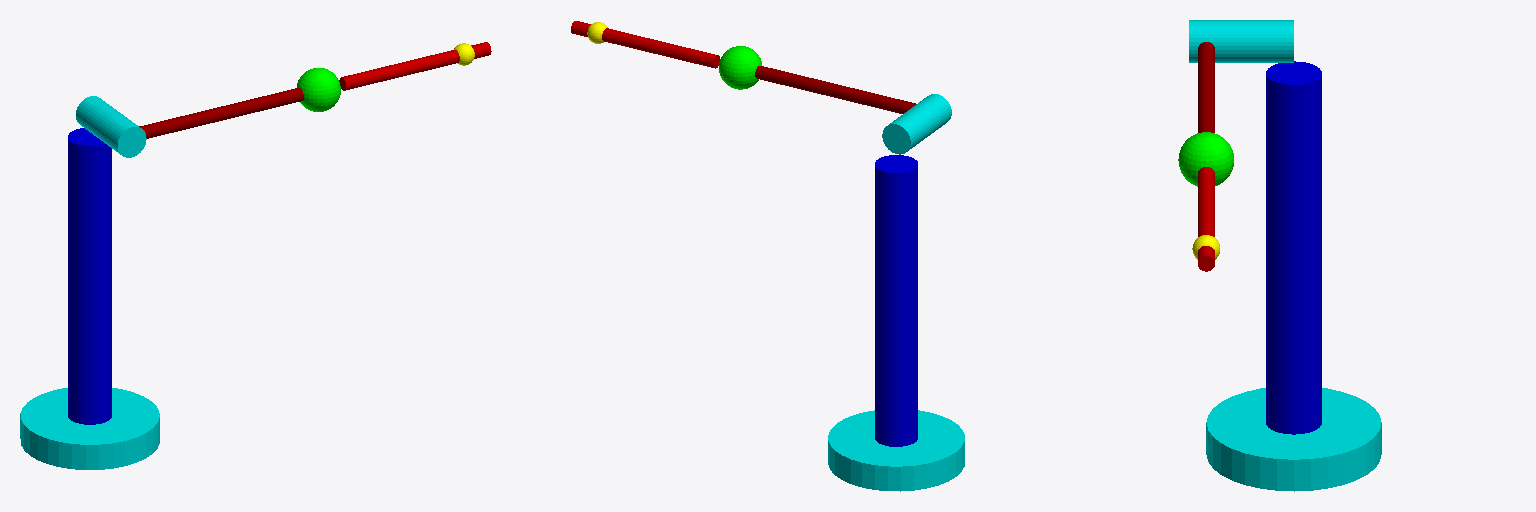
robot.urdf — pend_robot:
<?xml version="1.0"?>
<!--
  Motorised pendulum, tidied version.

  Frame conventions (all link frames are aligned with the world frame when q = 0):
    * the post is vertical, along +z;
    * the motor_joint (shoulder) is at (0, -0.25, 1.3): above the post and 0.25 m to its side,
      so the arm swings in the plane y = -0.25, beside the post and never through it;
    * the joint axis is -y, so a positive angle lifts the arm UP in the x-z plane;
    * at q = 0 the arm points along +x (horizontal).
  The only rpy values in this file are inside <visual>/<inertial> tags. They rotate the
  cylinder shapes (which PyBullet builds along z) so that they lie along x or y.
  They do not change any frame.
-->
<robot name="pend_robot">

  <link name="base_link">
    <visual>
      <origin xyz="0 0 0.05" rpy="0 0 0"/>
      <geometry><cylinder radius="0.25" length="0.1"/></geometry>
      <material name="cyan"><color rgba="0 0.9 0.9 1.0"/></material>
    </visual>
    <inertial>
      <origin xyz="0 0 0.05" rpy="0 0 0"/>
      <mass value="100"/>
      <inertia ixx="10" ixy="0" ixz="0" iyy="10" iyz="0" izz="10"/>
    </inertial>
  </link>

  <link name="body_link">
    <visual>
      <origin xyz="0 0 0.6" rpy="0 0 0"/>
      <geometry><cylinder radius="0.08" length="1.2"/></geometry>
      <material name="blue"><color rgba="0 0 0.9 1.0"/></material>
    </visual>
    <inertial>
      <origin xyz="0 0 0.6" rpy="0 0 0"/>
      <mass value="5"/>
      <inertia ixx="0.6" ixy="0" ixz="0" iyy="0.6" iyz="0" izz="0.05"/>
    </inertial>
  </link>

  <!-- Motor housing: a cylinder along the joint axis (y), from the post to the arm. -->
  <link name="motor_link">
    <visual>
      <origin xyz="0 0.1 0" rpy="1.5707963 0 0"/>
      <geometry><cylinder radius="0.06" length="0.3"/></geometry>
      <material name="cyan"><color rgba="0 0.9 0.9 1.0"/></material>
    </visual>
    <inertial>
      <origin xyz="0 0 0" rpy="0 0 0"/>
      <mass value="1"/>
      <inertia ixx="0.01" ixy="0" ixz="0" iyy="0.01" iyz="0" izz="0.01"/>
    </inertial>
  </link>

  <!-- Arm: 0.8 m long, along +x of its own frame. -->
  <link name="arm_link">
    <visual>
      <origin xyz="0.4 0 0" rpy="0 1.5707963 0"/>
      <geometry><cylinder radius="0.025" length="0.8"/></geometry>
      <material name="red"><color rgba="0.6 0 0 1.0"/></material>
    </visual>
    <inertial>
      <origin xyz="0.4 0 0" rpy="0 0 0"/>
      <mass value="0.5"/>
      <inertia ixx="0.0002" ixy="0" ixz="0" iyy="0.03" iyz="0" izz="0.03"/>
    </inertial>
  </link>

 <!-- Arm: 0.8 m long, along +x of its own frame. -->
  <link name="arm2_link">
    <visual>
      <origin xyz="0.4 0 0" rpy="0 1.5707963 0"/>
      <geometry><cylinder radius="0.025" length="0.6"/></geometry>
      <material name="red"><color rgba="0.8 0 0 1.0"/></material>
    </visual>
    <inertial>
      <origin xyz="0.3 0 0" rpy="0 0 0"/>
      <mass value="0.3"/>
      <inertia ixx="0.0002" ixy="0" ixz="0" iyy="0.03" iyz="0" izz="0.03"/>
    </inertial>
  </link>

  <!-- Ball at the end of the arm. Its frame origin is exactly the arm tip. -->
  <link name="ball_link">
    <visual>
      <origin xyz="0 0 0" rpy="0 0 0"/>
      <geometry><sphere radius="0.08"/></geometry>
      <material name="green"><color rgba="0 1 0 1"/></material>
    </visual>
    <inertial>
      <origin xyz="0 0 0" rpy="0 0 0"/>
      <mass value="2"/>
      <inertia ixx="0.005" ixy="0" ixz="0" iyy="0.005" iyz="0" izz="0.005"/>
    </inertial>
  </link>

    <link name="tip_link">
      <visual>
        <origin xyz="0 0 0" rpy="0 0 0"/>
        <geometry><sphere radius="0.04"/></geometry>
        <material name="yellow"><color rgba="1 1 0 1"/></material>
      </visual>
      <inertial>
        <origin xyz="0 0 0" rpy="0 0 0"/>
        <mass value="0.1"/>
        <inertia ixx="0.0001" ixy="0" ixz="0" iyy="0.0001" iyz="0" izz="0.0001"/>
      </inertial>
    </link>

  <joint name="first_joint" type="fixed">
    <parent link="base_link"/>
    <child link="body_link"/>
    <origin xyz="0 0 0" rpy="0 0 0"/>
  </joint>

  <!-- The only moving joint: the shoulder. -->
  <joint name="motor_joint" type="continuous">
    <parent link="body_link"/>
    <child link="motor_link"/>
    <origin xyz="0 -0.25 1.3" rpy="0 0 0"/>
    <axis xyz="0 -1 0"/>
    <dynamics damping="0.05" friction="0.0"/>
  </joint>

    <joint name="elbow_joint" type="continuous">
      <parent link="ball_link"/>
      <child link="arm2_link"/>
      <origin xyz="0 0 0" rpy="0 0 0"/>
      <axis xyz="0 -1 0"/>
      <dynamics damping="0.05" friction="0.0"/>
    </joint>    

  <joint name="arm_fixed" type="fixed">
    <parent link="motor_link"/>
    <child link="arm_link"/>
    <origin xyz="0 0 0" rpy="0 0 0"/>
  </joint>

  <joint name="ball_fixed" type="fixed">
    <parent link="arm_link"/>
    <child link="ball_link"/>
    <origin xyz="0.8 0 0" rpy="0 0 0"/>
  </joint>

    <joint name="tip_fixed" type="fixed">
      <parent link="arm2_link"/>
      <child link="tip_link"/>
      <origin xyz="0.6 0 0" rpy="0 0 0"/>
    </joint>

</robot>

--- What the picture shows (computed from the rendered views, not written in the file) ---
Views: 3 orthographic renders of the robot side by side, from view 1: azimuth 30°, elevation 25°; view 2: azimuth 150°, elevation 25°; view 3: azimuth 270°, elevation 25°.
Robot: pend_robot — 7 links, 6 joints (2 continuous, 4 fixed); root link base_link; default pose: all joints at 0.
Links seen in each view (by area): view 1: body_link, base_link, motor_link, arm_link, arm2_link, ball_link; view 2: body_link, base_link, motor_link, arm_link, arm2_link, ball_link; view 3: body_link, base_link, motor_link, ball_link, arm2_link, arm_link.
Boxes of the visible links, x1,y1,x2,y2 form: body_link: (68,128,111,424); base_link: (20,388,159,469); motor_link: (76,96,146,157); arm_link: (139,88,303,138); arm2_link: (339,42,491,90); ball_link: (297,68,340,111); body_link: (875,155,917,446); base_link: (828,410,964,491); motor_link: (882,94,951,154); arm_link: (755,66,915,113); arm2_link: (571,21,719,68); ball_link: (719,46,761,89); body_link: (1266,61,1321,434); base_link: (1206,388,1381,491); motor_link: (1189,20,1293,62); ball_link: (1178,132,1233,186); arm2_link: (1198,167,1214,271); arm_link: (1198,42,1214,132).
Size in the robot's own frame: 1.75 by 0.58 by 1.38 metres.
Geometry: primitives only (box / cylinder / sphere), no mesh files.
